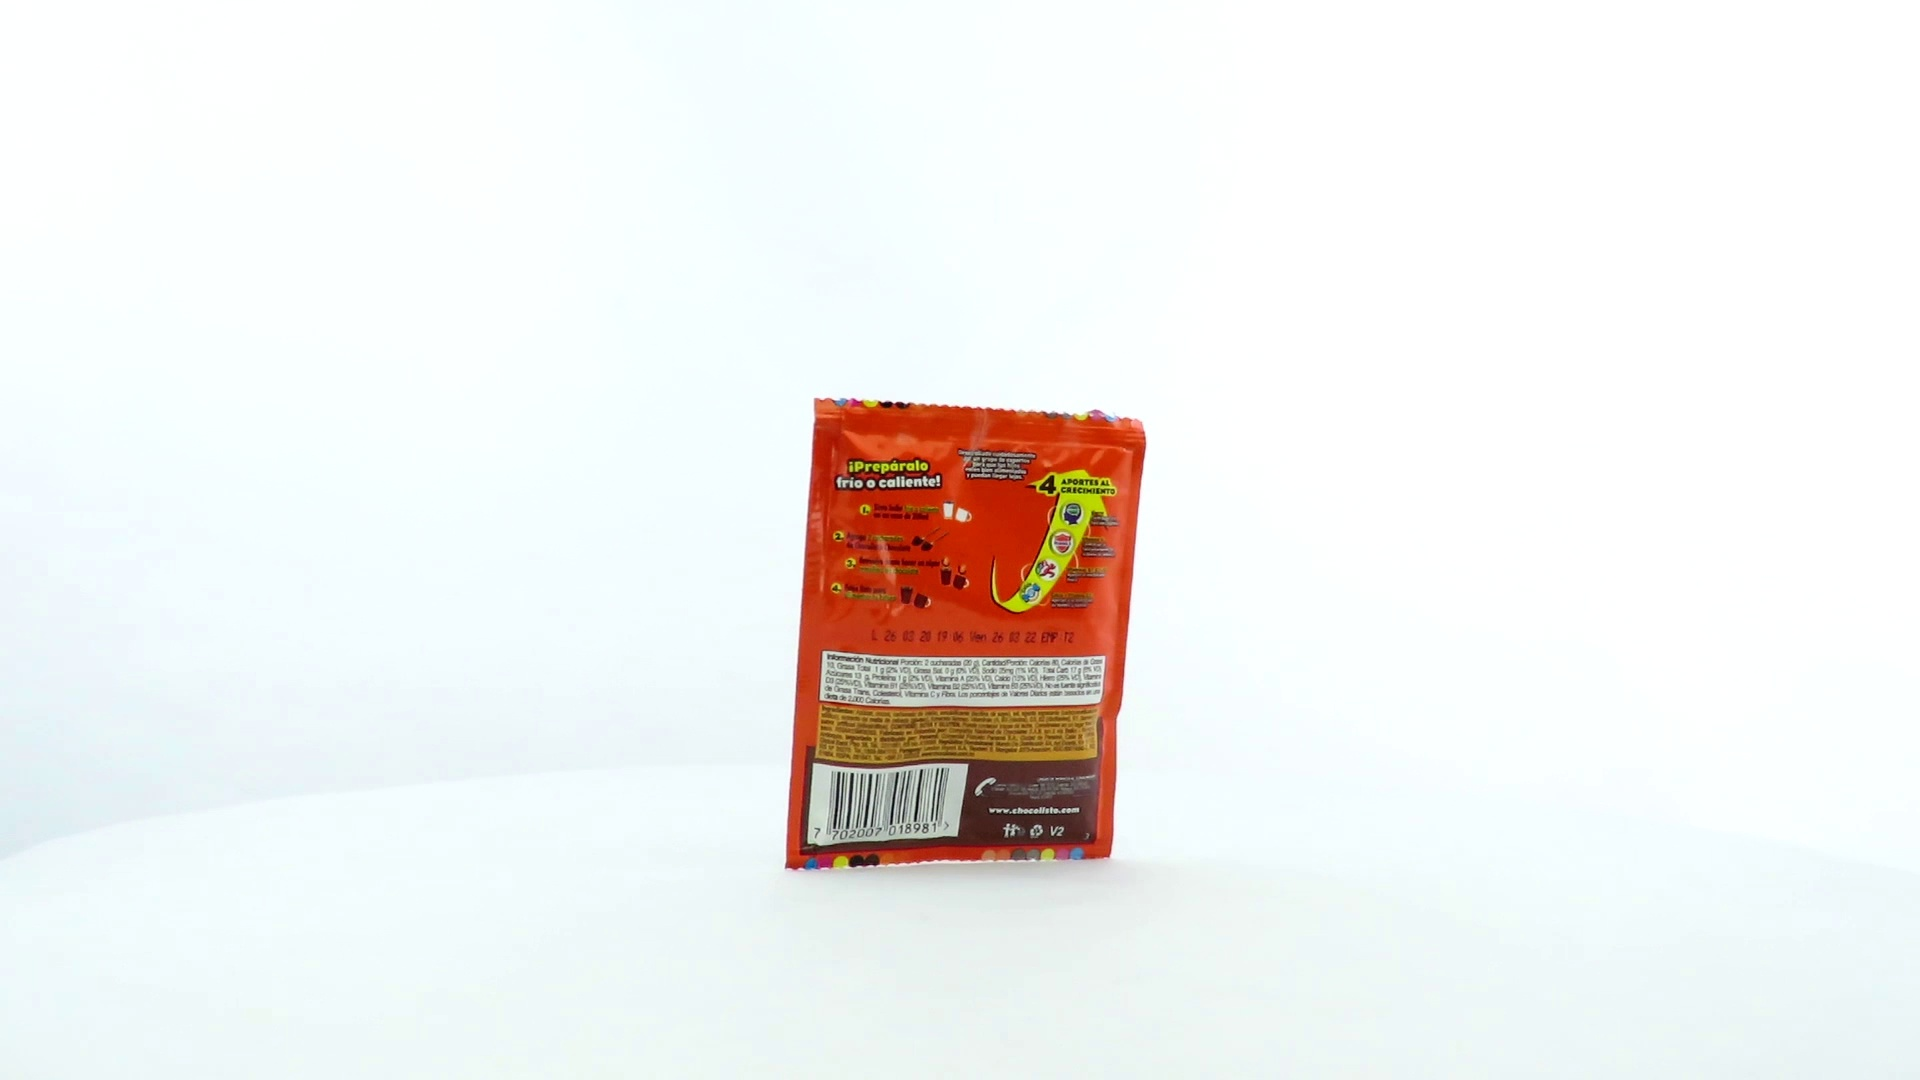COL0170103SOB02000: (781, 392, 1153, 876)
